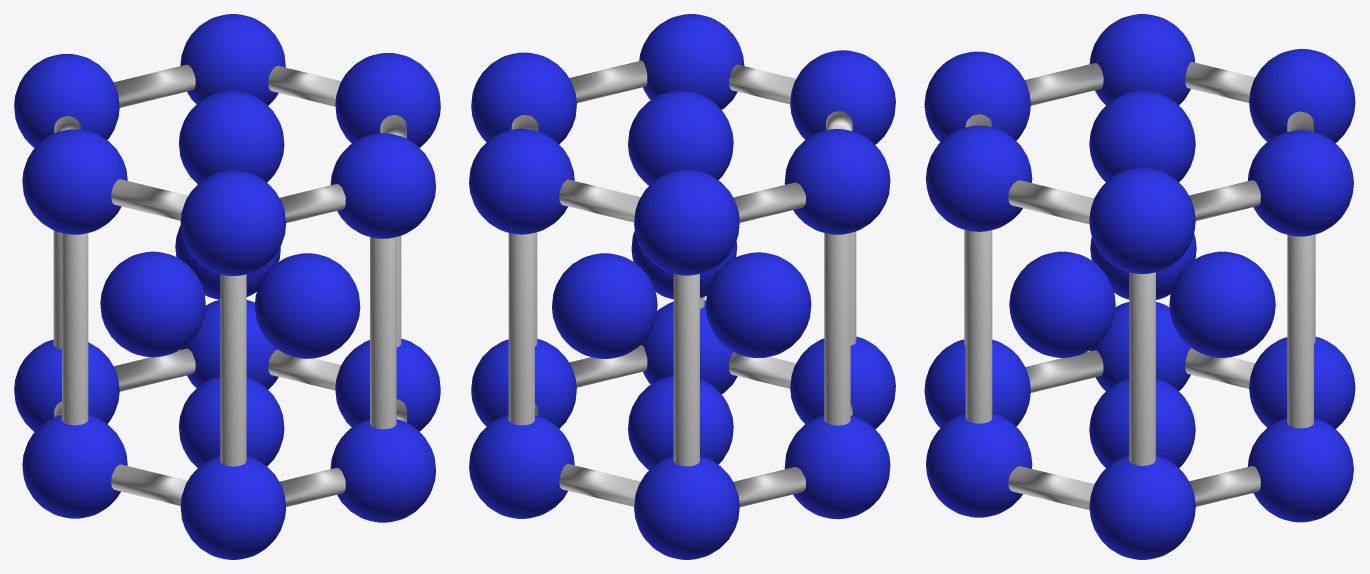
File: Zinc3.glb
3 renders of one model, left to right at view 1: azimuth 30°, elevation 25°; view 2: azimuth 150°, elevation 25°; view 3: azimuth 270°, elevation 25°, orthographic.
Visible parts, largest first — view 1: Sphere.001, Cylinder; view 2: Sphere.001, Cylinder; view 3: Sphere.001, Cylinder.
Part boxes in pixels (bbox=[...]): Sphere.001: bbox=[14, 14, 440, 559]; Cylinder: bbox=[53, 64, 406, 506]; Sphere.001: bbox=[469, 14, 895, 559]; Cylinder: bbox=[508, 60, 856, 507]; Sphere.001: bbox=[924, 14, 1355, 559]; Cylinder: bbox=[964, 62, 1315, 510].
Size of the model in its own units: 3.53 by 3.17 by 3.24.
